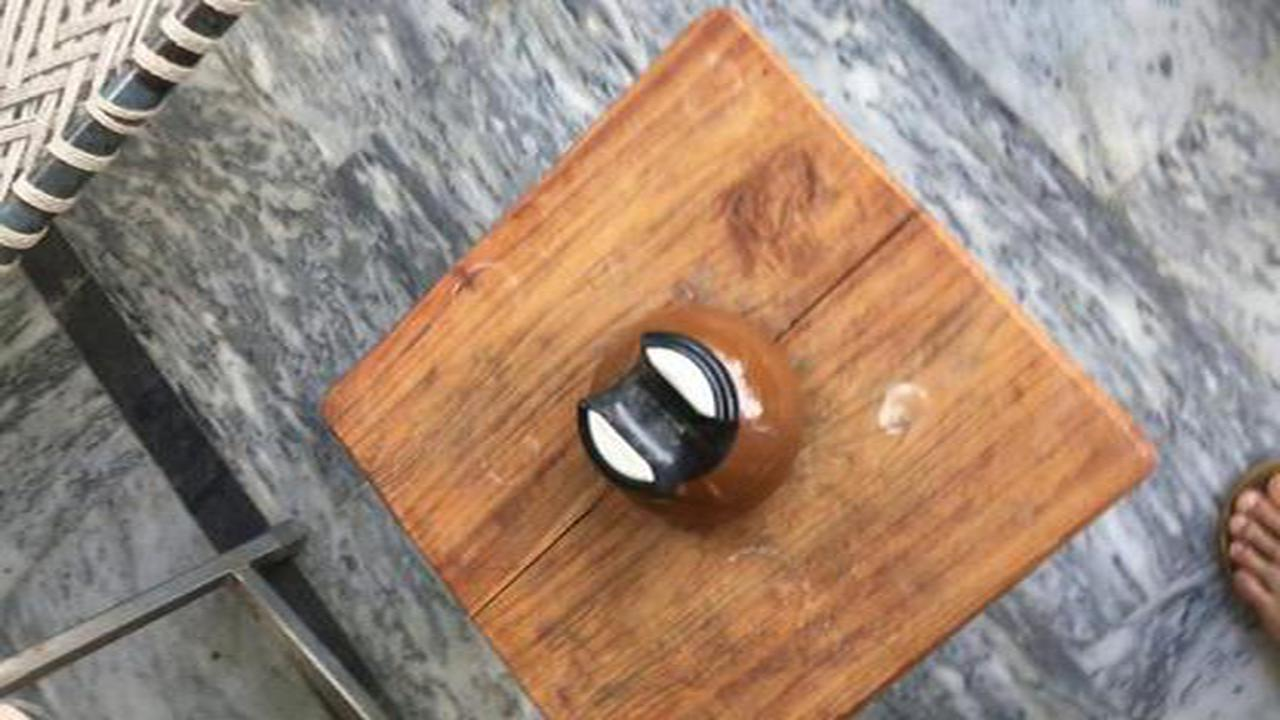insulator_pin: (551, 293, 831, 546)
